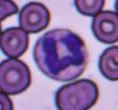N: (33, 29, 88, 80)
